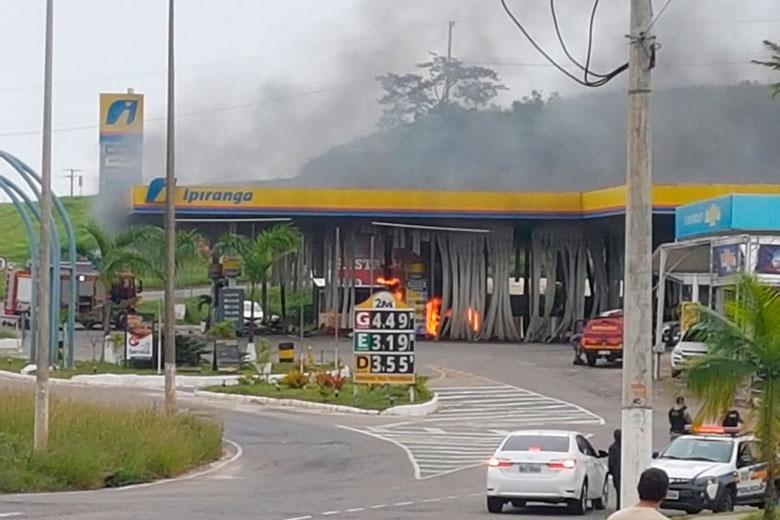fire: (429, 299, 444, 343)
smoke: (198, 119, 346, 175)
